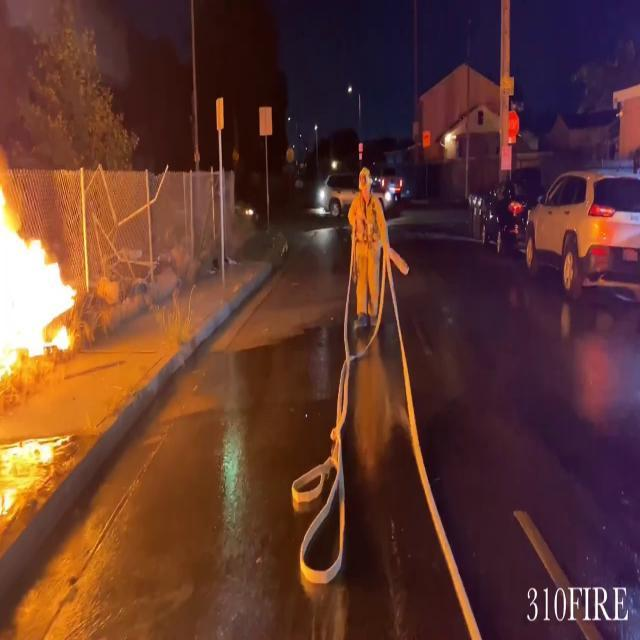Fire: (0, 128, 86, 396)
